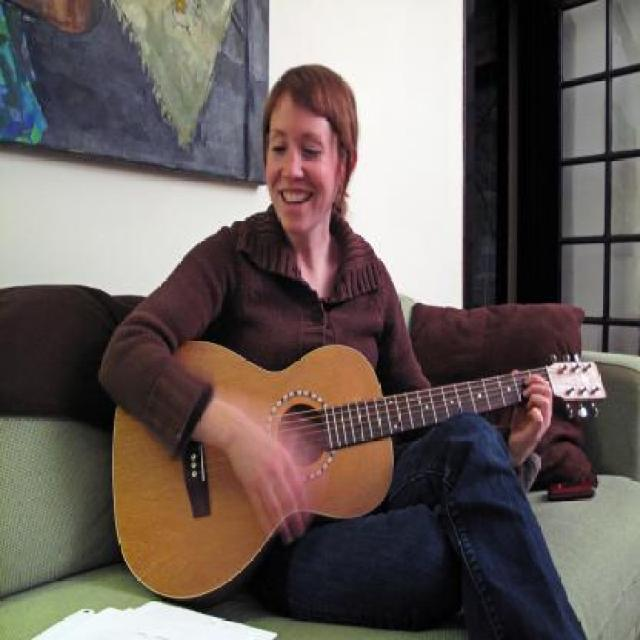sem_oculos: (261, 120, 339, 166)
